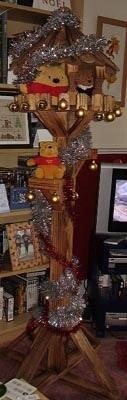tvmonitor: (96, 163, 127, 238)
